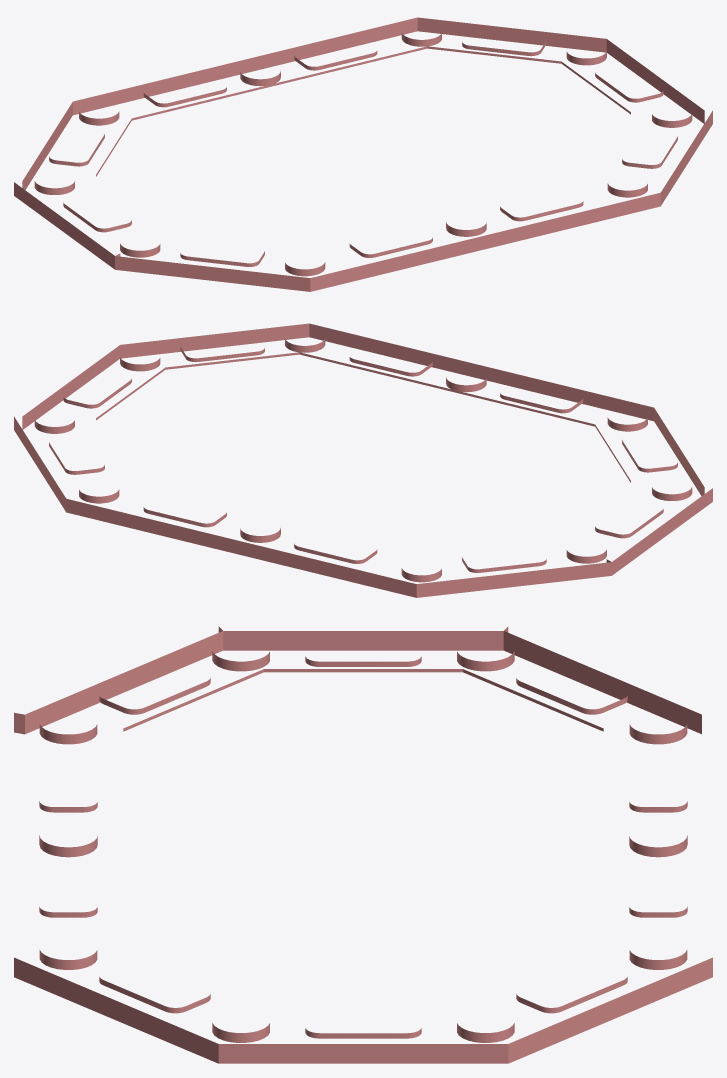
3 renders of one model, top to bottom at view 1: azimuth 30°, elevation 25°; view 2: azimuth 150°, elevation 25°; view 3: azimuth 270°, elevation 25°, orthographic. The views are drawn at different scales.
Parts seen in each view (by area): view 1: Layer0_001; view 2: Layer0_001; view 3: Layer0_001.
Part boxes in pixels (x1,y1,x2,y2): Layer0_001: (14, 17, 712, 291); Layer0_001: (14, 323, 712, 597); Layer0_001: (14, 626, 712, 1063).
Bounding box in the file's own units: 67.88 × 1.75 × 48.
